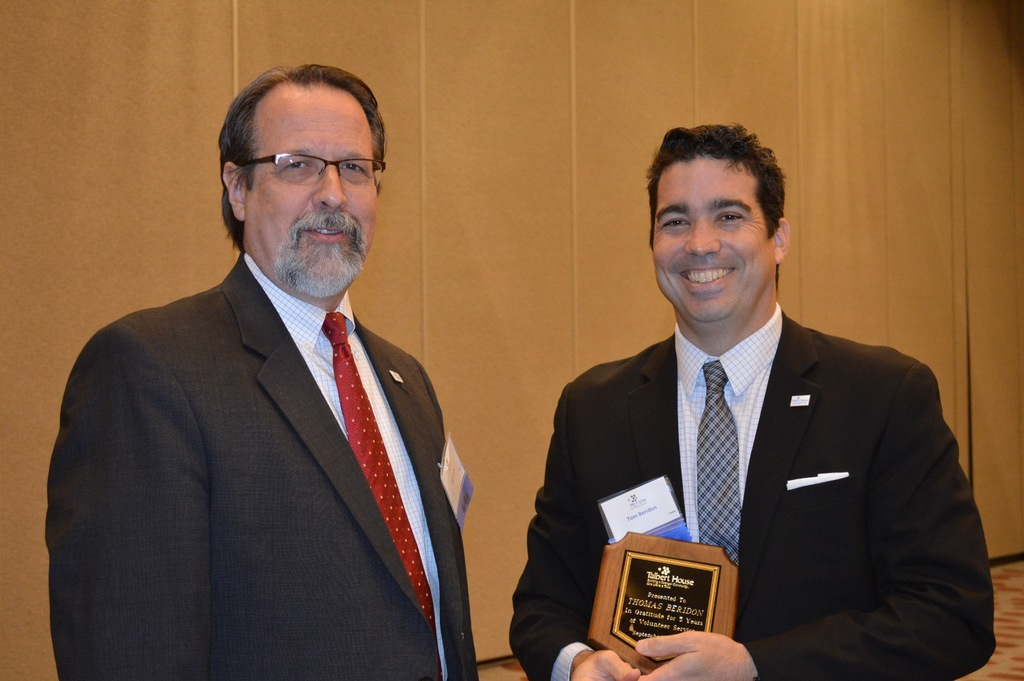Person: (508, 121, 996, 680), (44, 61, 479, 681)
